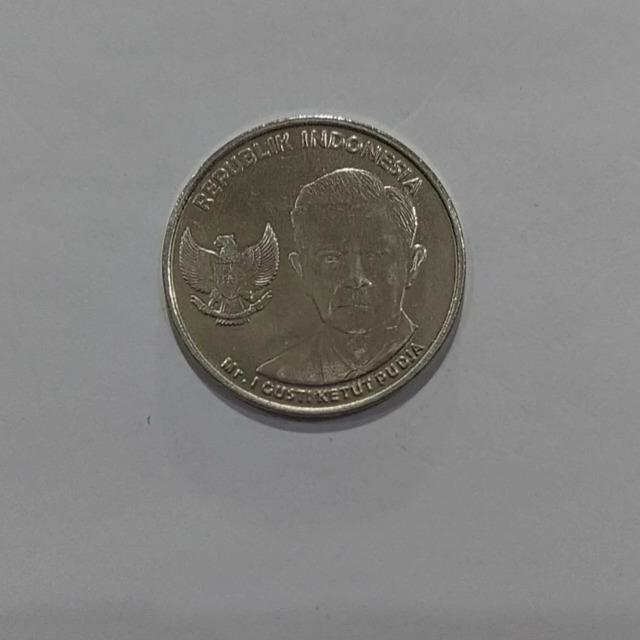Rp100: (160, 112, 468, 421), (251, 164, 430, 387)
